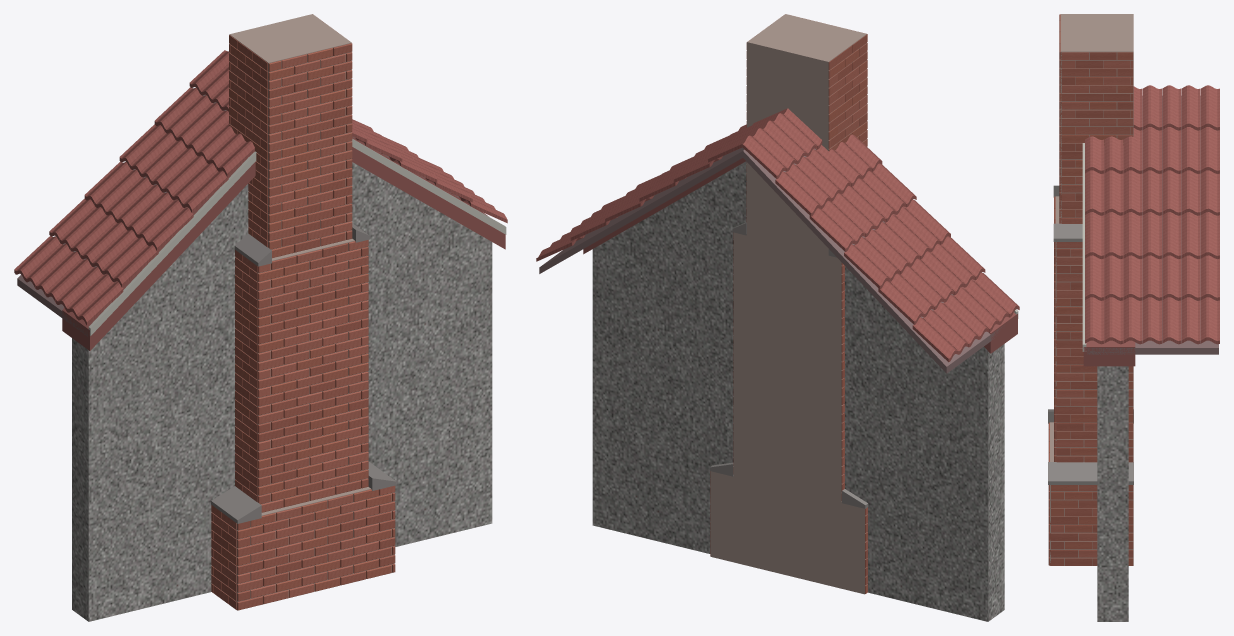
File: yan-chimney-near.glb
The picture shows the model from 3 angles, left to right: view 1: azimuth 30°, elevation 25°; view 2: azimuth 150°, elevation 25°; view 3: azimuth 270°, elevation 25°; orthographic projection. The views are drawn at different scales.
Visible parts, largest first — view 1: 严家花园愚园路山墙红砖烟囱; view 2: 严家花园愚园路山墙红砖烟囱; view 3: 严家花园愚园路山墙红砖烟囱.
Boxes of the visible parts, left/top/right/bottom form: 严家花园愚园路山墙红砖烟囱: left=14, top=14, right=507, bottom=621; 严家花园愚园路山墙红砖烟囱: left=536, top=14, right=1019, bottom=621; 严家花园愚园路山墙红砖烟囱: left=1048, top=14, right=1219, bottom=621.
Size of the model in its own units: 3.46 by 4.2 by 1.32.
12 materials, 7 textured.
